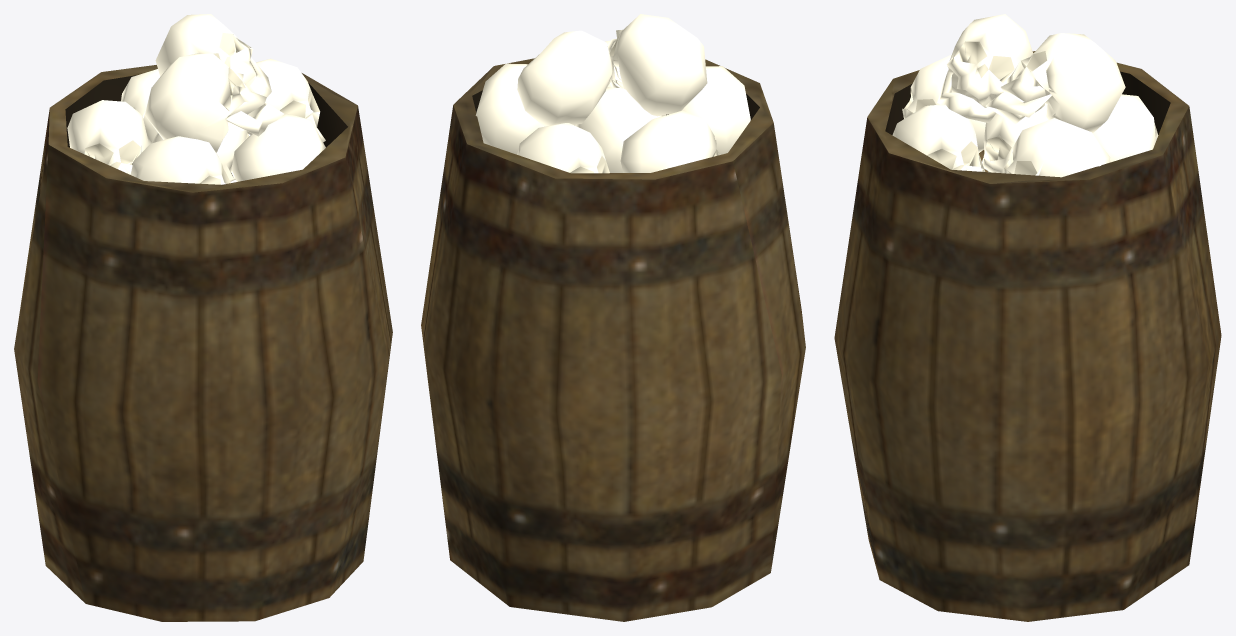
The model's file is BarrelSkulls.glb.
The picture shows the model from 3 angles, left to right: view 1: azimuth 30°, elevation 25°; view 2: azimuth 150°, elevation 25°; view 3: azimuth 270°, elevation 25°; orthographic projection.
Visible parts, largest first — view 1: BarrelSkulls; view 2: BarrelSkulls; view 3: BarrelSkulls.
Boxes of the visible parts, x1=… form: BarrelSkulls: x1=14, y1=14, x2=392, y2=621; BarrelSkulls: x1=421, y1=14, x2=805, y2=621; BarrelSkulls: x1=834, y1=14, x2=1221, y2=621.
Size of what is drawn, in the model's own units: 0.9425 by 1.42 by 0.9435.
Materials: 1 (1 with a texture image).
